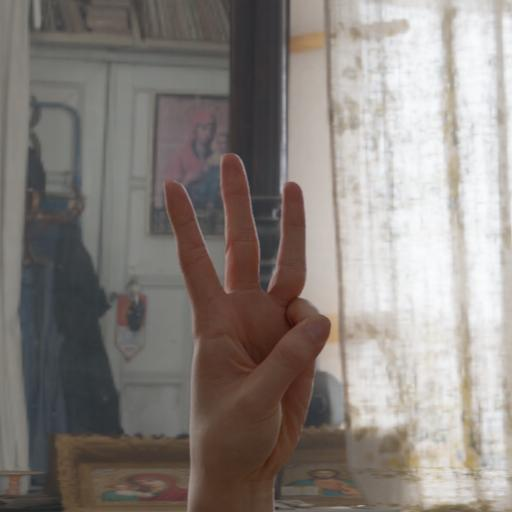W: (113, 116, 377, 512)
